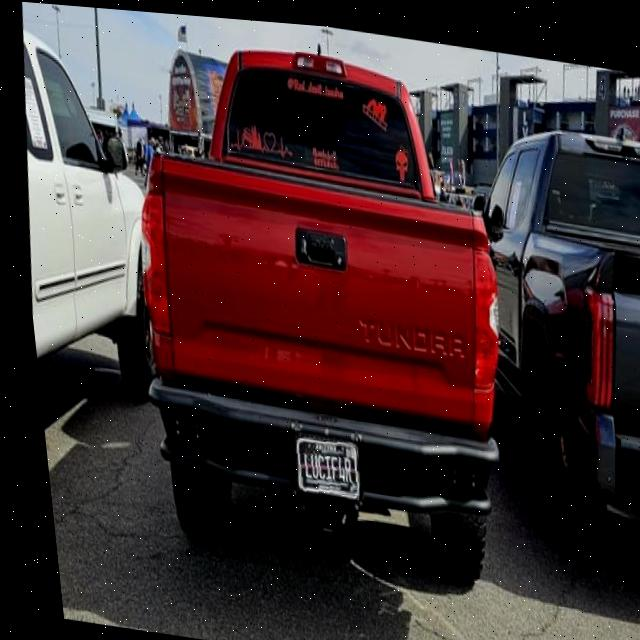LicensePlate: (286, 434, 349, 490)
